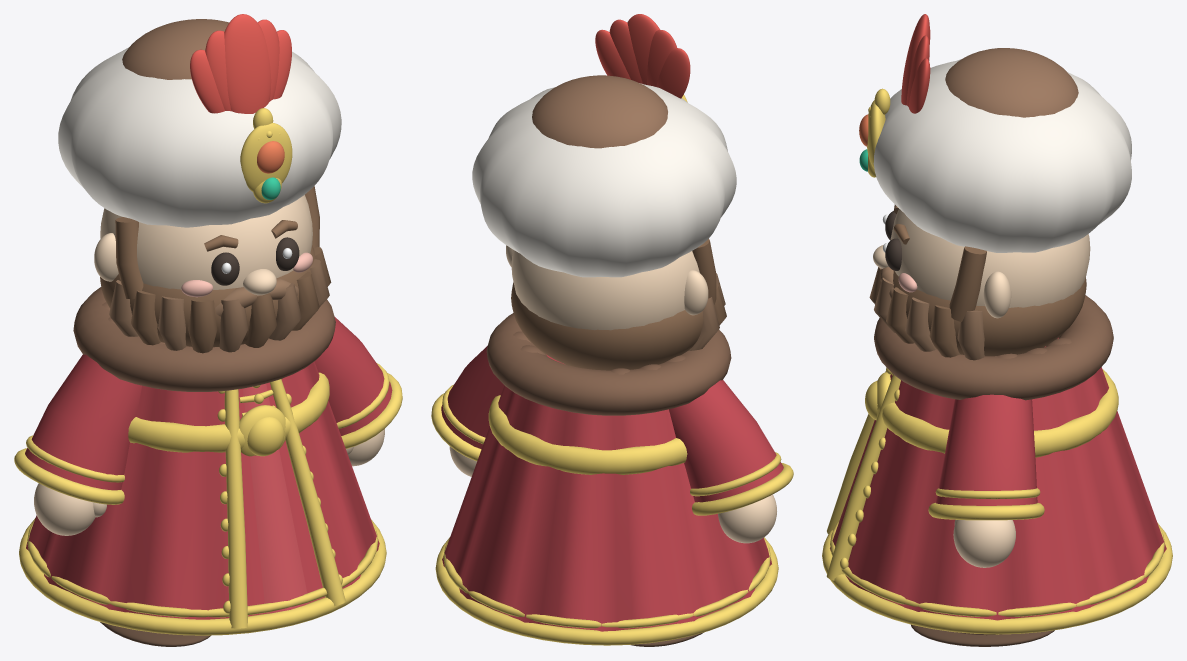
Rendered from orta_detay_padisah_karakter_v2.glb.
3 views of the same model, side by side, from view 1: azimuth 30°, elevation 25°; view 2: azimuth 150°, elevation 25°; view 3: azimuth 270°, elevation 25° (orthographic). The views are drawn at different scales.
Visible parts, largest first — view 1: Kaftan_OuterRobe, Turban_Base, Fur_Collar_Base, Sleeve_Left, Head, Kaftan_Gold_HemOuter, Kaftan_InnerTunic, Sleeve_Right, Gold_Belt, Turban_TopCap, Kaftan_Gold_Lapel_Left, Sorguc_Plume_0 (+31 smaller); view 2: Kaftan_OuterRobe, Turban_Base, Fur_Collar_Base, Head, Sleeve_Left, Turban_TopCap, Beard_Core, Kaftan_Gold_HemOuter, Gold_Belt, Sleeve_Right, Kaftan_Gold_HemInner, Hand_Palm_Left (+11 smaller); view 3: Kaftan_OuterRobe, Turban_Base, Fur_Collar_Base, Sleeve_Right, Head, Turban_TopCap, Kaftan_Gold_HemOuter, Beard_Core, Gold_Belt, Kaftan_Gold_HemInner, Kaftan_Gold_Lapel_Right, Hand_Palm_Right (+15 smaller).
Part boxes in pixels (bbox=[...]): Kaftan_OuterRobe: bbox=[26, 361, 379, 619]; Turban_Base: bbox=[58, 47, 341, 227]; Fur_Collar_Base: bbox=[73, 287, 335, 391]; Sleeve_Left: bbox=[25, 354, 141, 490]; Head: bbox=[100, 195, 312, 289]; Kaftan_Gold_HemOuter: bbox=[19, 520, 386, 635]; Kaftan_InnerTunic: bbox=[243, 383, 309, 613]; Sleeve_Right: bbox=[314, 316, 392, 435]; Gold_Belt: bbox=[128, 372, 329, 452]; Turban_TopCap: bbox=[122, 19, 229, 79]; Kaftan_Gold_Lapel_Left: bbox=[224, 389, 247, 628]; Sorguc_Plume_0: bbox=[224, 14, 271, 113]; Kaftan_OuterRobe: bbox=[442, 354, 771, 631]; Turban_Base: bbox=[472, 83, 736, 277]; Fur_Collar_Base: bbox=[486, 313, 731, 415]; Head: bbox=[511, 250, 699, 330]; Sleeve_Left: bbox=[669, 380, 783, 502]; Turban_TopCap: bbox=[532, 75, 667, 148]; Beard_Core: bbox=[511, 282, 703, 370]; Kaftan_Gold_HemOuter: bbox=[435, 538, 778, 645]; Gold_Belt: bbox=[488, 395, 687, 474]; Sleeve_Right: bbox=[441, 345, 504, 449]; Kaftan_Gold_HemInner: bbox=[443, 537, 770, 628]; Hand_Palm_Left: bbox=[718, 494, 776, 543]; Kaftan_OuterRobe: bbox=[845, 338, 1166, 620]; Turban_Base: bbox=[873, 59, 1131, 252]; Fur_Collar_Base: bbox=[874, 295, 1113, 400]; Sleeve_Right: bbox=[935, 394, 1037, 505]; Head: bbox=[890, 209, 1090, 307]; Turban_TopCap: bbox=[945, 48, 1078, 117]; Kaftan_Gold_HemOuter: bbox=[822, 525, 1172, 634]; Beard_Core: bbox=[893, 270, 1086, 356]; Gold_Belt: bbox=[878, 369, 1118, 457]; Kaftan_Gold_HemInner: bbox=[830, 522, 1164, 616]; Kaftan_Gold_Lapel_Right: bbox=[826, 374, 900, 580]; Hand_Palm_Right: bbox=[953, 520, 1015, 567].
Bounding box in the file's own units: 1.12 × 1.79 × 0.964.
